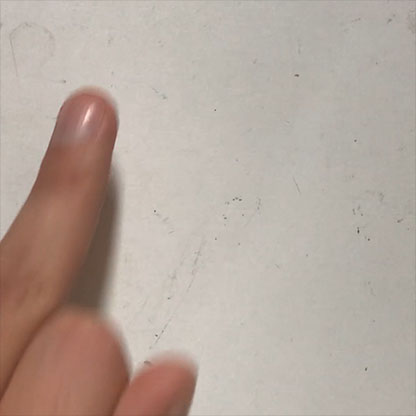fingertip: (39, 80, 134, 174)
